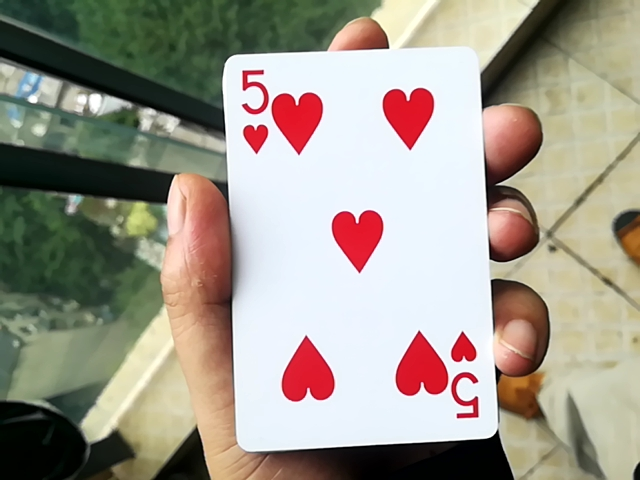hx 5: (217, 27, 497, 448)
